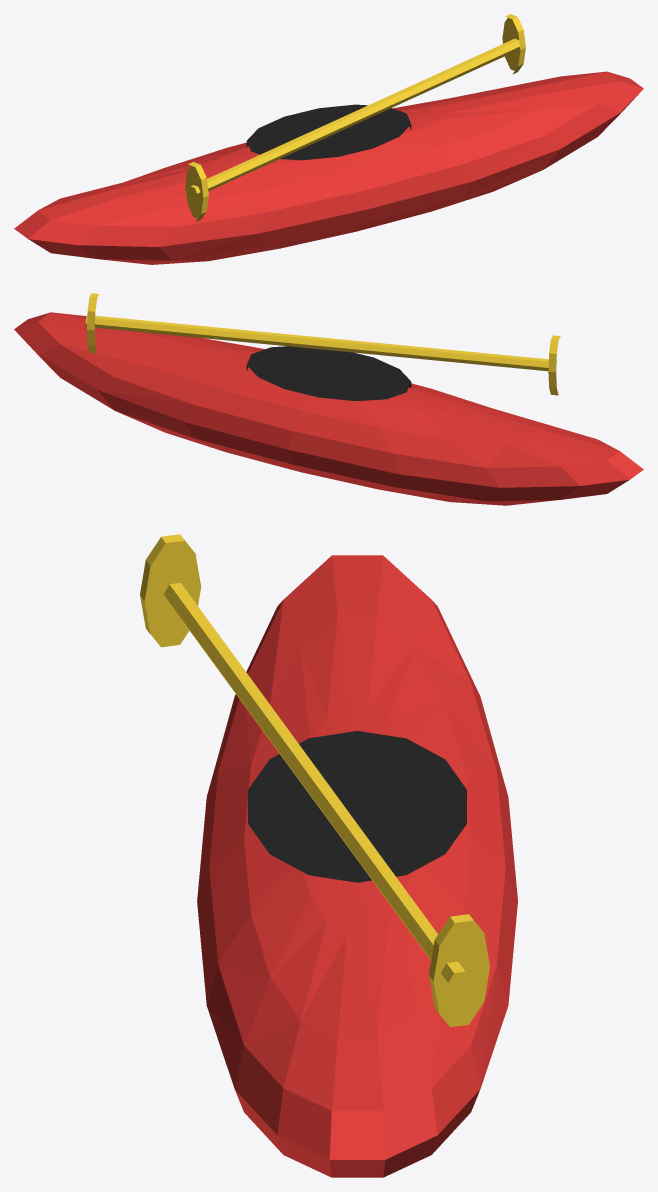
The model's file is kajak.glb.
The picture shows the model from 3 angles, top to bottom: view 1: azimuth 30°, elevation 25°; view 2: azimuth 150°, elevation 25°; view 3: azimuth 270°, elevation 25°; orthographic projection. The views are drawn at different scales.
Parts seen in each view (by area): view 1: kajak; view 2: kajak; view 3: kajak.
Part boxes in pixels (x1,y1,x2,y2): kajak: (14,14,643,264); kajak: (14,293,643,505); kajak: (140,534,517,1177).
Bounding box in the file's own units: 1.77 × 0.346 × 0.4711.
